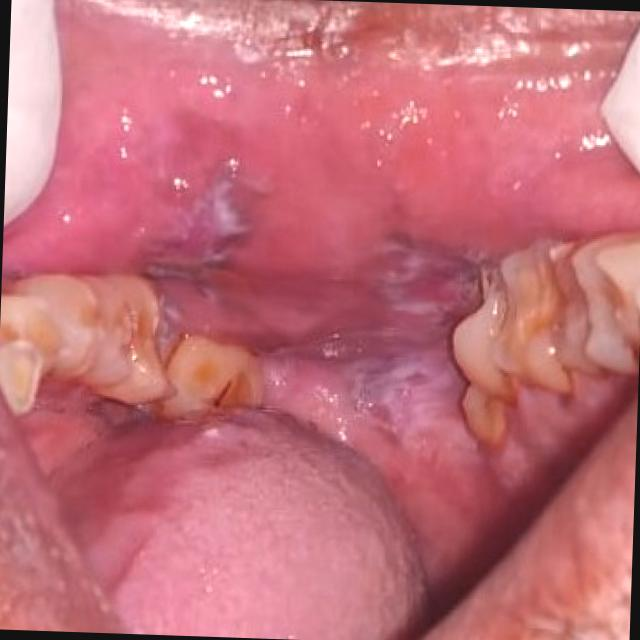Cancer: (312, 208, 484, 486), (136, 108, 276, 314)
